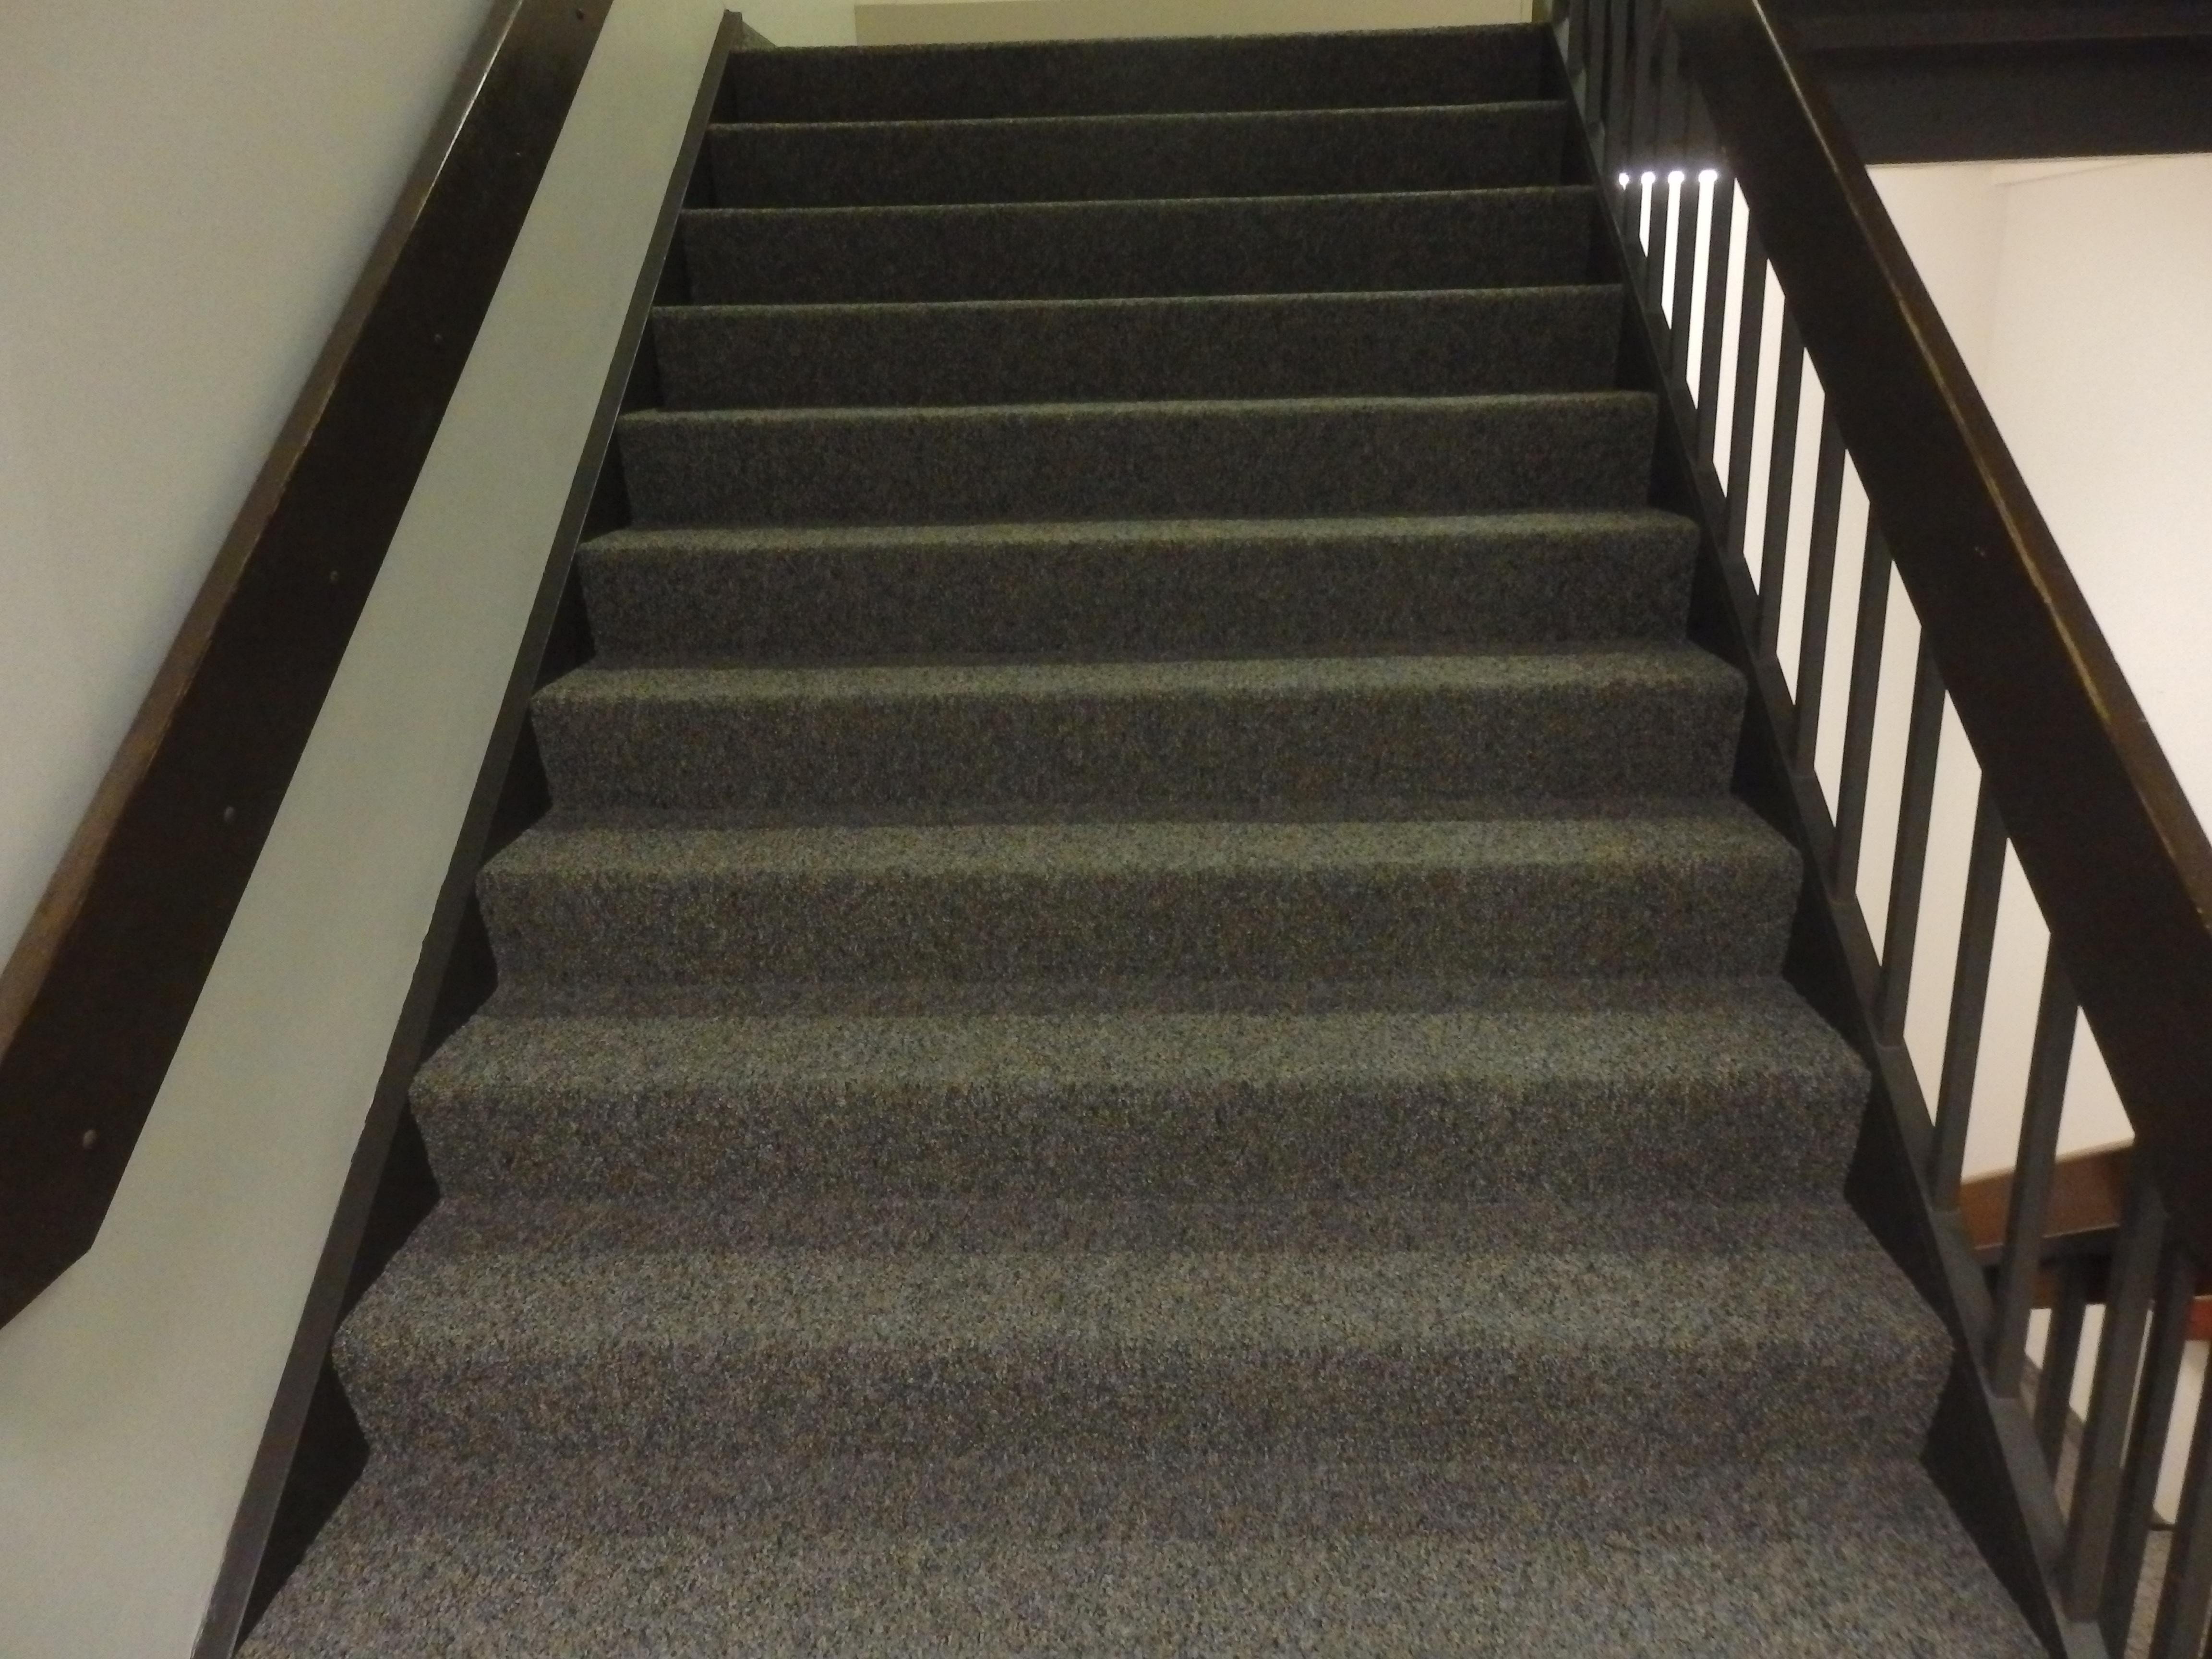stairs_up: (399, 24, 1858, 1534)
